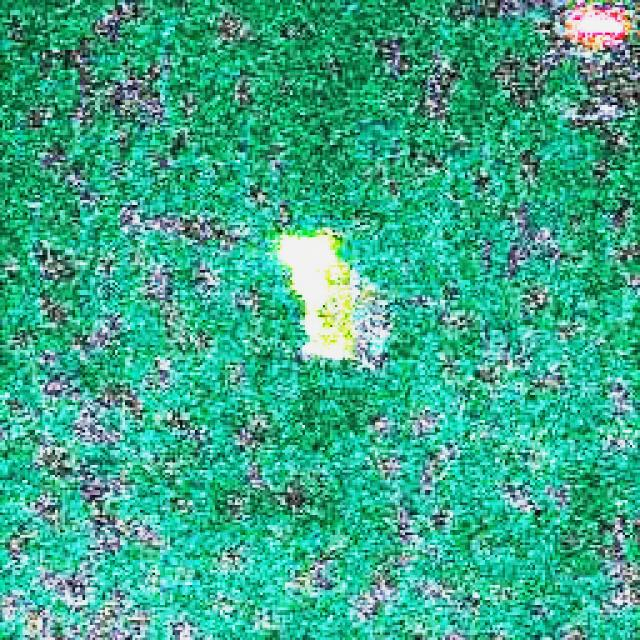cat: (243, 170, 431, 390)
